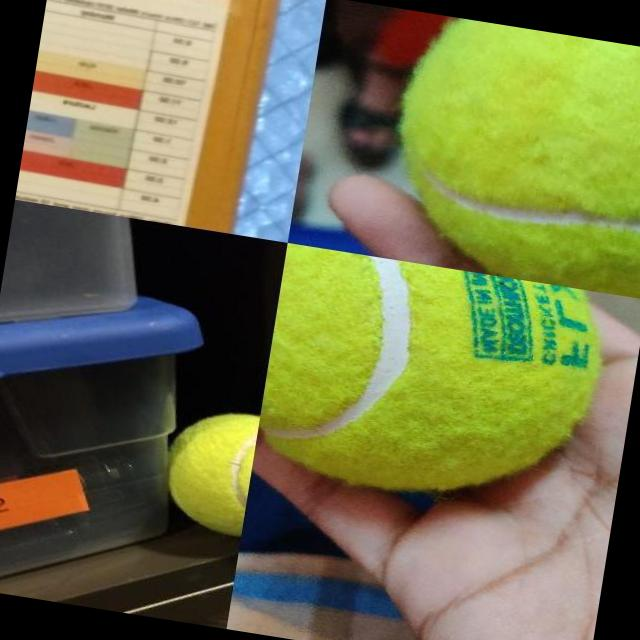Tennis Ball: (254, 243, 610, 518), (381, 12, 640, 299), (160, 402, 260, 538)
